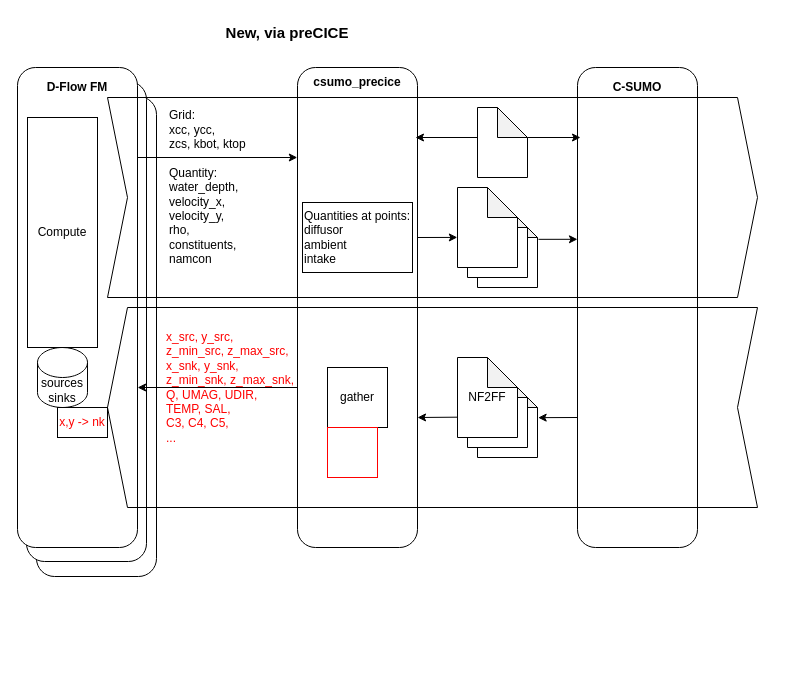
This 795x684 diagram has some shape labels left out. Here are the shapes that lost their labels. From the top down, the centre of each, then its label:
At pixel 502 142: "config".
At pixel 487 227: "FF2NF".
At pixel 352 452: "DESA nolump".
